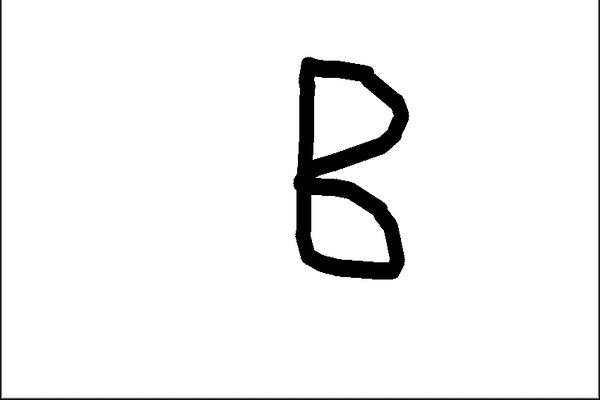B: (282, 45, 418, 290)
